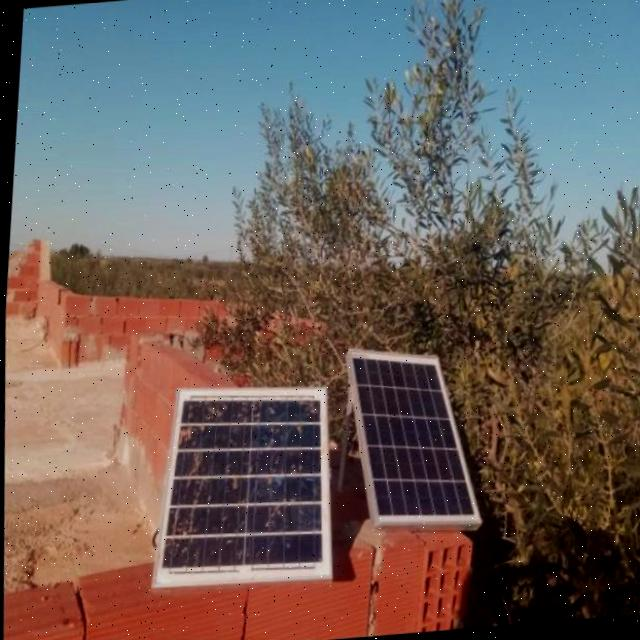Normal Solar Panel: (334, 342, 486, 536)
